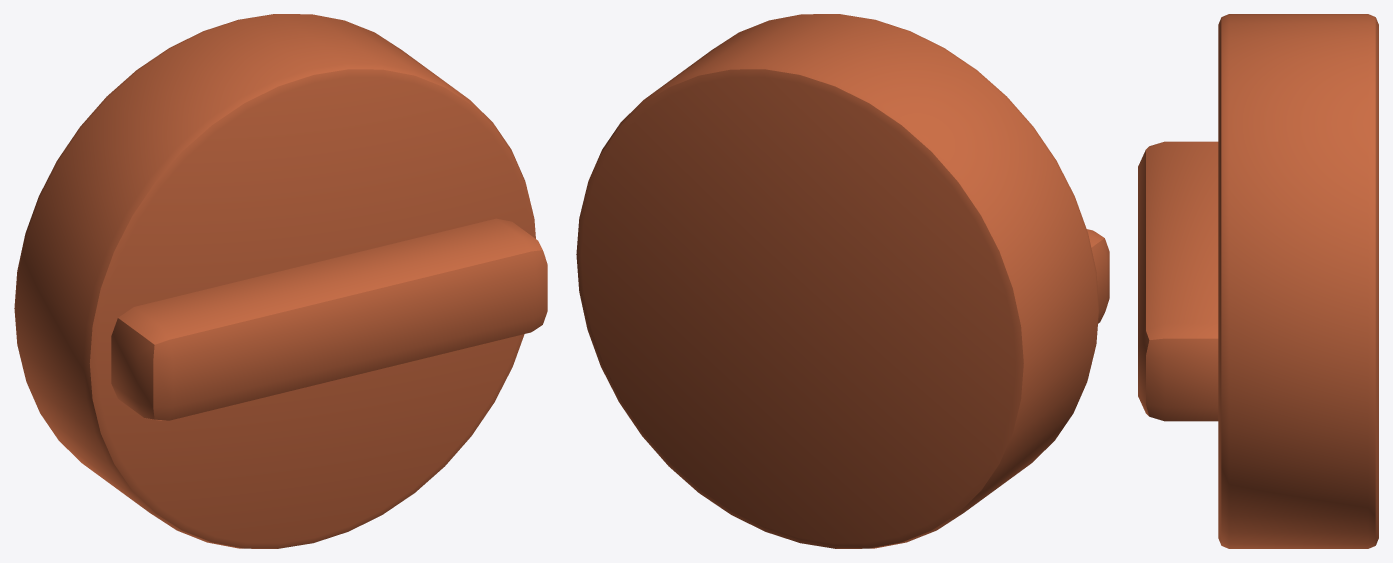
File: rotary_hammer_mode_selector.glb
The picture shows the model from 3 angles, left to right: view 1: azimuth 30°, elevation 25°; view 2: azimuth 150°, elevation 25°; view 3: azimuth 270°, elevation 25°; orthographic projection. The views are drawn at different scales.
Visible parts, largest first — view 1: rotary_hammer_mode_selector; view 2: rotary_hammer_mode_selector; view 3: rotary_hammer_mode_selector.
Boxes of the visible parts, box(x1,y1,x2,y2) form: rotary_hammer_mode_selector: box(14, 14, 547, 548); rotary_hammer_mode_selector: box(576, 14, 1109, 548); rotary_hammer_mode_selector: box(1138, 14, 1378, 548).
Size of the model in its own units: 0.04 by 0.04 by 0.018.
